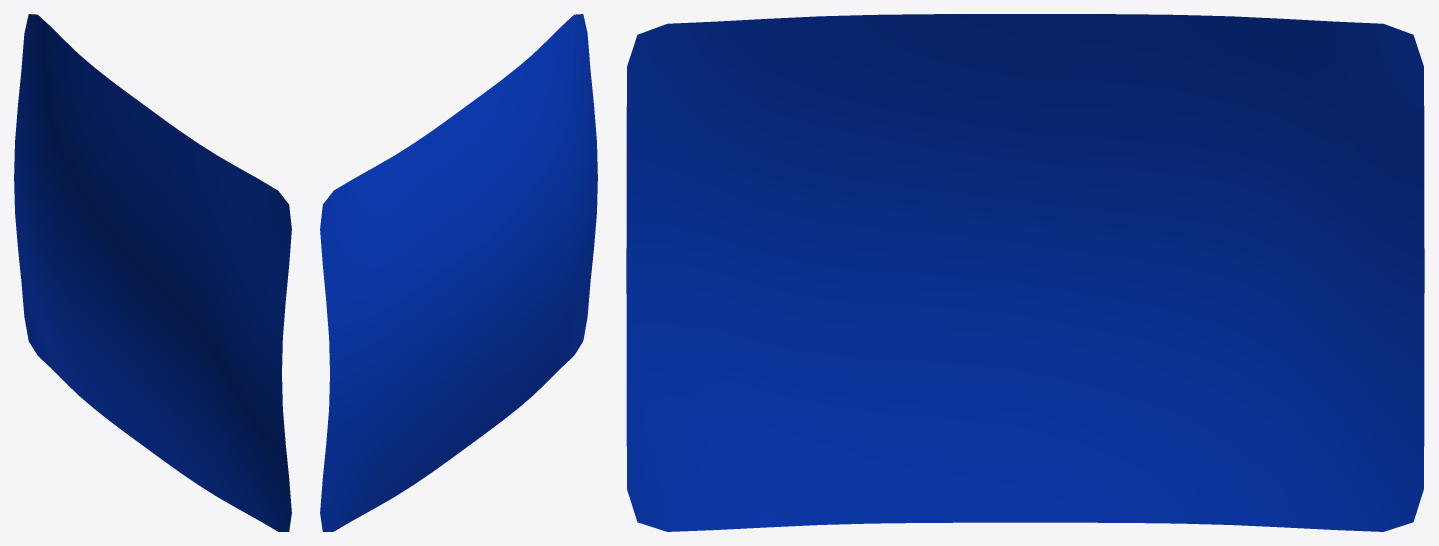
Rendered from TV Screen.FBX.
The picture shows the model from 3 angles, left to right: view 1: azimuth 30°, elevation 25°; view 2: azimuth 150°, elevation 25°; view 3: azimuth 270°, elevation 25°; orthographic projection. The views are drawn at different scales.
Parts seen in each view (by area): view 1: Low Poly TV Screen; view 2: Low Poly TV Screen; view 3: Low Poly TV Screen.
Part boxes in pixels (bbox=[...]): Low Poly TV Screen: bbox=[14, 14, 291, 531]; Low Poly TV Screen: bbox=[320, 14, 597, 531]; Low Poly TV Screen: bbox=[626, 14, 1424, 531].
Size of the model in its own units: 4.44 by 33.77 by 48.01.
